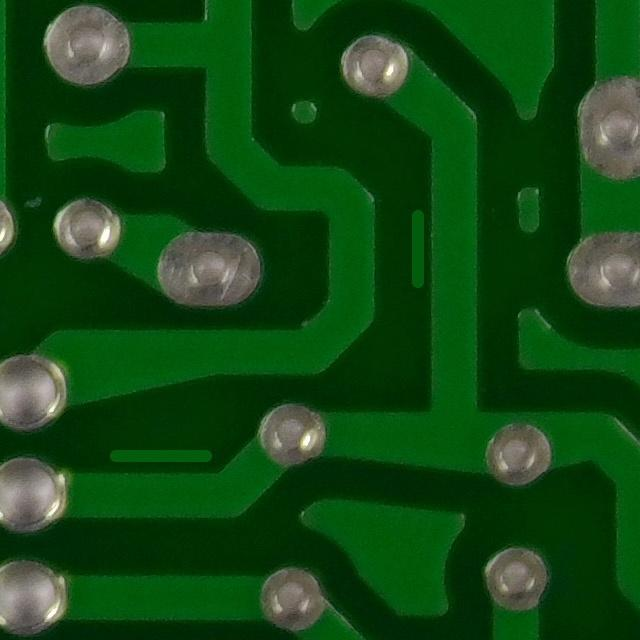spurious_copper: (101, 432, 221, 489), (389, 186, 446, 305)
